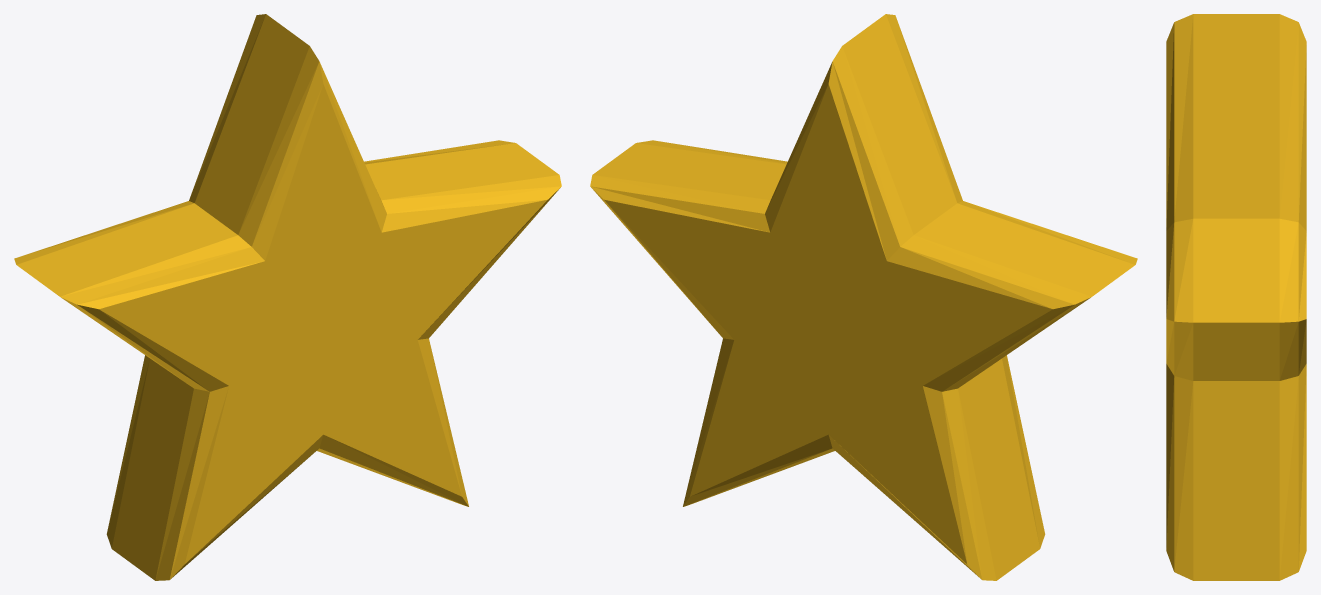
The model's file is star.glb.
3 renders of one model, left to right at view 1: azimuth 30°, elevation 25°; view 2: azimuth 150°, elevation 25°; view 3: azimuth 270°, elevation 25°, orthographic.
Parts seen in each view (by area): view 1: star; view 2: star; view 3: star.
Part boxes in pixels (x1,y1,x2,y2): star: [14, 14, 561, 580]; star: [590, 14, 1137, 580]; star: [1166, 14, 1306, 580].
Size of the model in its own units: 1.06 by 1.01 by 0.26.
